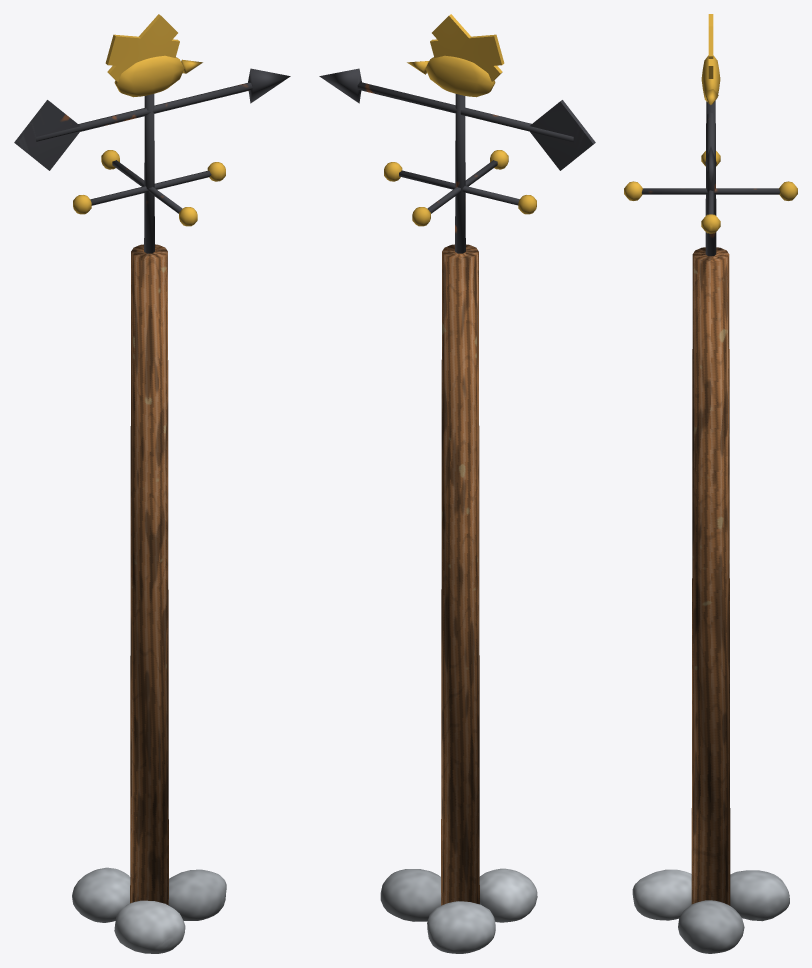
The model's file is weather_vane.glb.
3 renders of one model, left to right at view 1: azimuth 30°, elevation 25°; view 2: azimuth 150°, elevation 25°; view 3: azimuth 270°, elevation 25°, orthographic.
Visible parts, largest first — view 1: WeatherVane, Vane; view 2: WeatherVane, Vane; view 3: WeatherVane, Vane.
Boxes of the visible parts, <box> form: WeatherVane: <box>72,94,226,953</box>; Vane: <box>14,14,290,170</box>; WeatherVane: <box>380,94,537,953</box>; Vane: <box>319,14,595,170</box>; WeatherVane: <box>624,101,797,953</box>; Vane: <box>701,14,720,181</box>.
Size of the model in its own units: 0.819 by 2.59 by 0.4495.
Materials: 1 (1 with a texture image).
